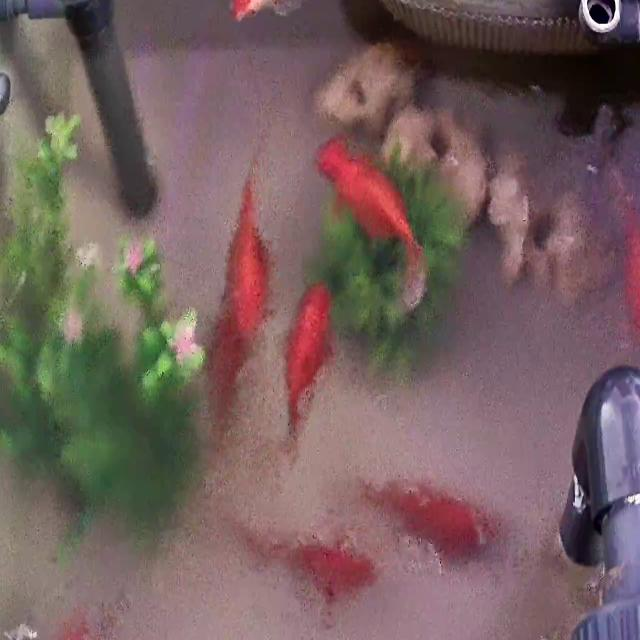fish: (202, 157, 268, 446), (320, 132, 425, 307), (228, 517, 366, 606), (362, 477, 488, 555), (283, 282, 330, 446), (618, 192, 640, 361)
